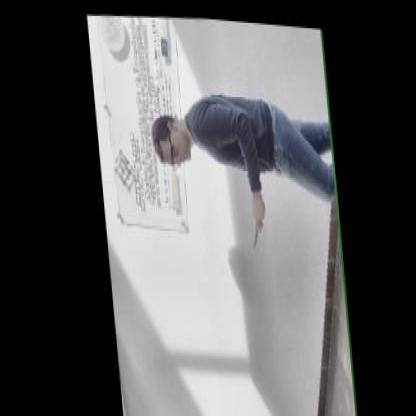knife: (244, 194, 266, 247)
